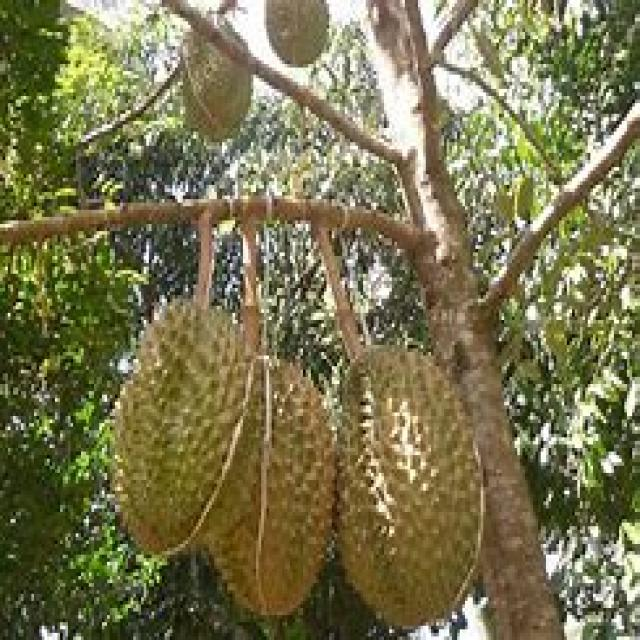mature: (338, 347, 482, 626), (201, 357, 335, 615), (112, 303, 246, 550)
